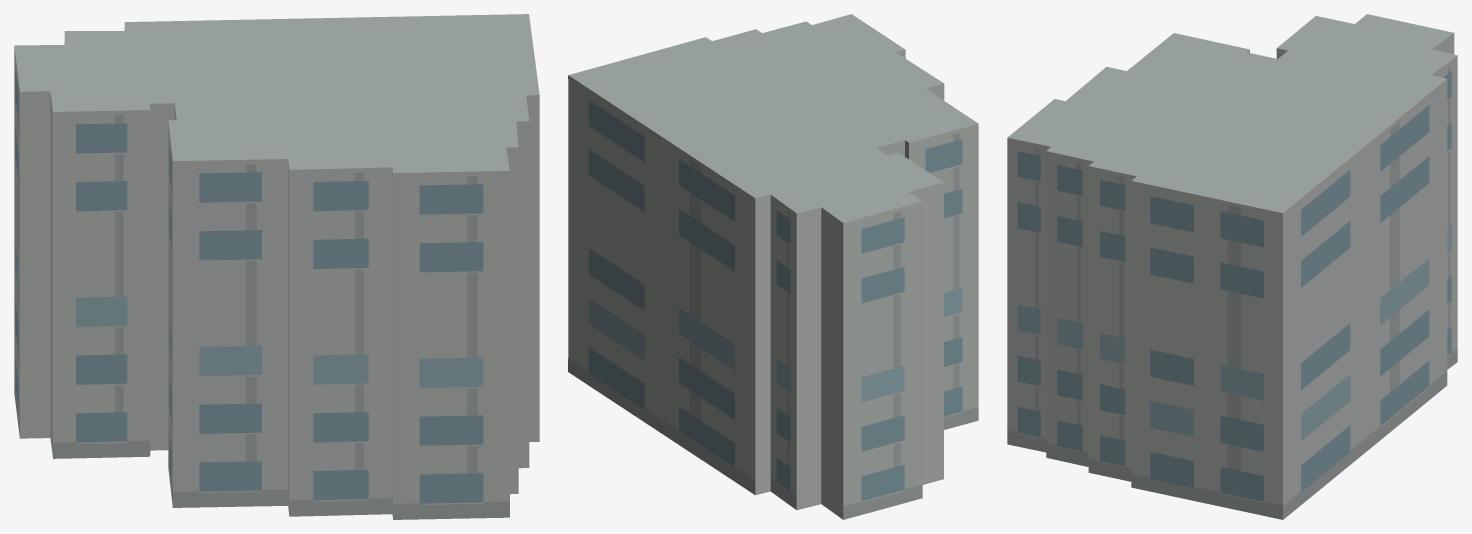
File: survey-upis-32805923.glb
3 views of the same model, side by side, from view 1: azimuth 30°, elevation 25°; view 2: azimuth 150°, elevation 25°; view 3: azimuth 270°, elevation 25° (orthographic). The views are drawn at different scales.
Visible parts, largest first — view 1: survey-upis-32805923.tmp; view 2: survey-upis-32805923.tmp; view 3: survey-upis-32805923.tmp.
Boxes of the visible parts, bbox=[...] form: survey-upis-32805923.tmp: bbox=[14, 14, 539, 519]; survey-upis-32805923.tmp: bbox=[568, 14, 978, 519]; survey-upis-32805923.tmp: bbox=[1007, 14, 1457, 519].
Size of the model in its own units: 26.27 by 18.85 by 25.1.
